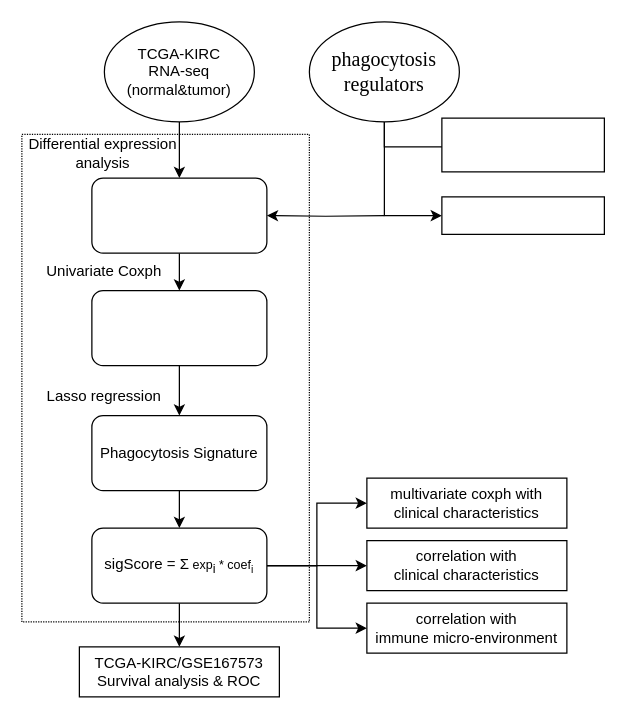
This 626x719 diagram has some shape labels left out. Each missing label, with the centre of its shape:
"Correlation with Macrophage" goes at point 522,215.
"DEGs" goes at point 179,215.
"GO/KEGG Functional enrichment analysis" goes at point 522,144.
"Prognostic Factors" goes at point 179,327.
